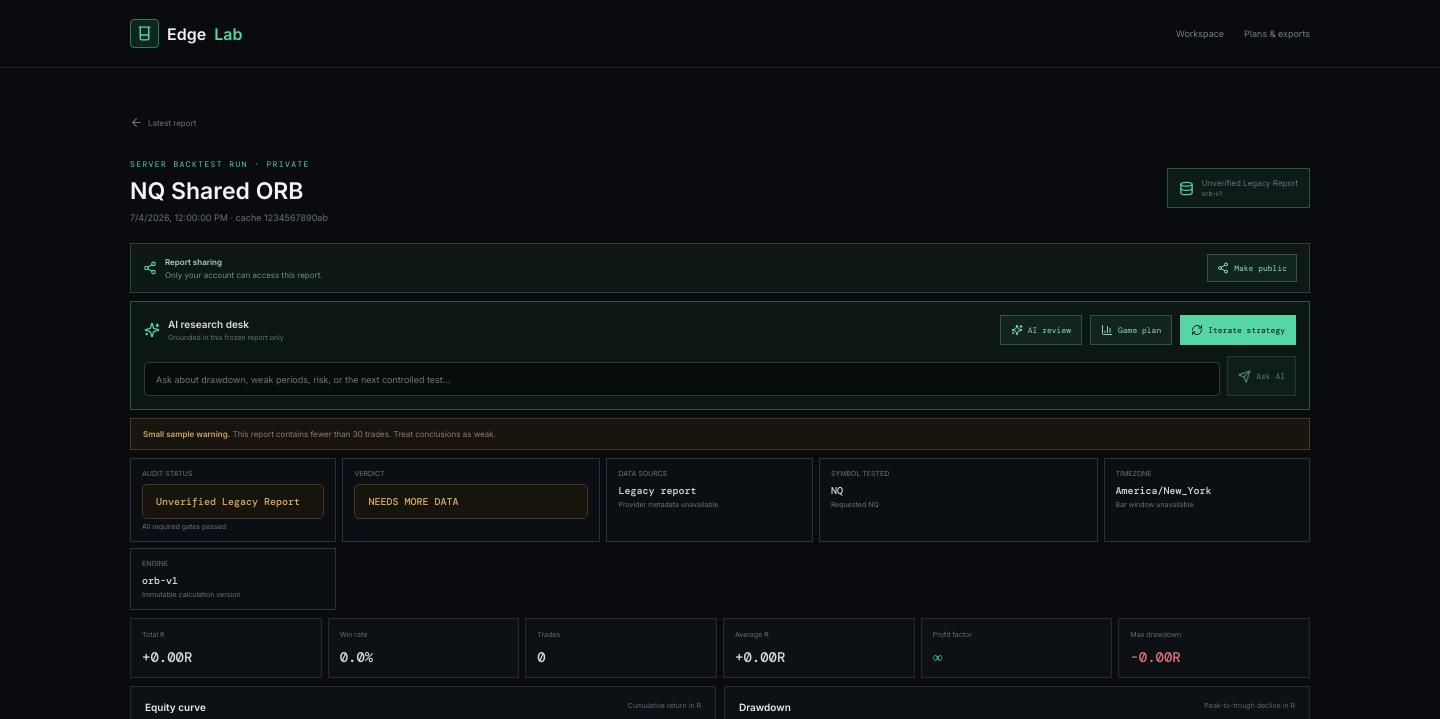
Test: report sharing UI › lets the report owner publish a private report
Click the button "Make public" at (1252, 268), box [1207,254,1297,282]
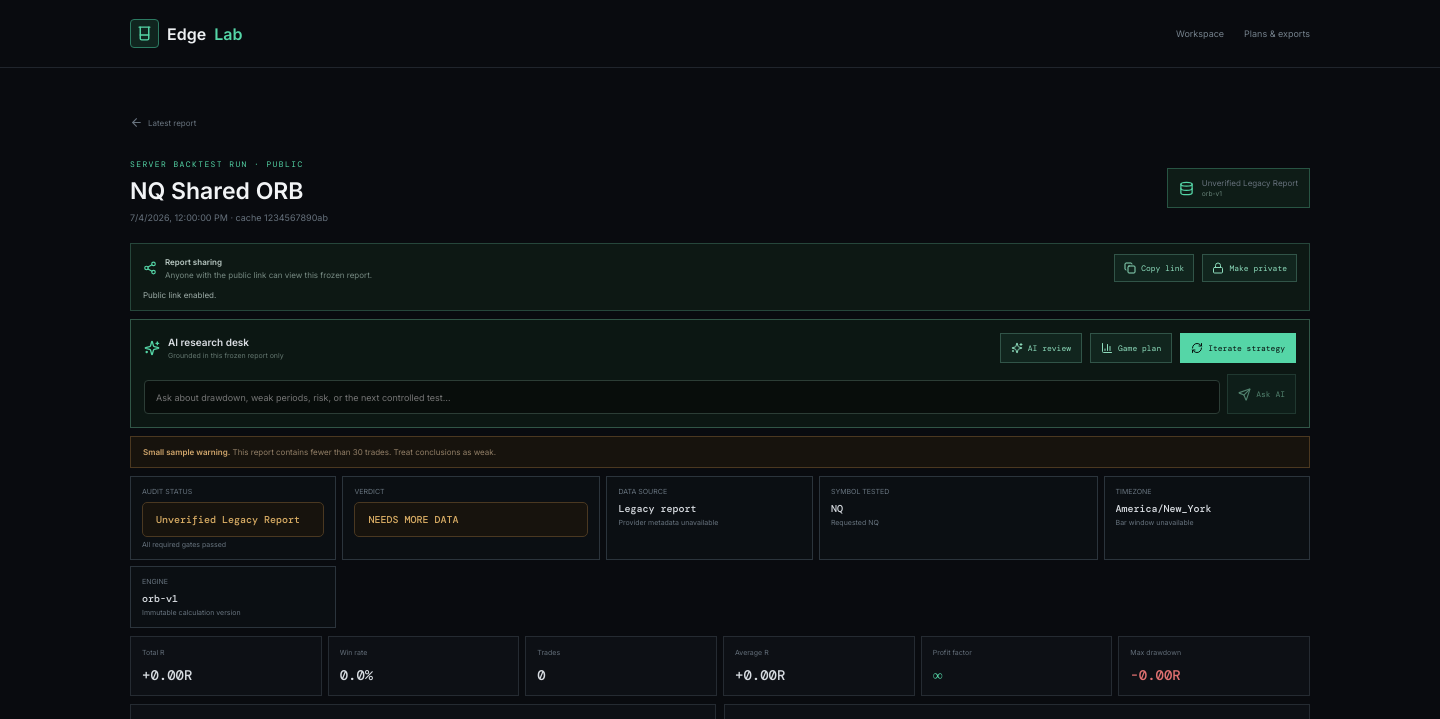
Now the text "Public link enabled." is shown, box [143,290,216,300]
Now the button "Make private" is shown, box [1202,254,1297,282]
Now the button "Copy link" is shown, box [1114,254,1194,282]
